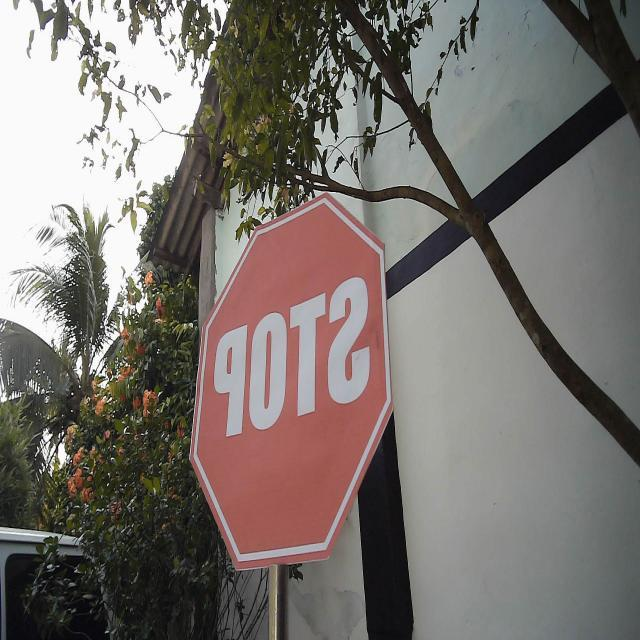stop: (186, 188, 396, 576)
